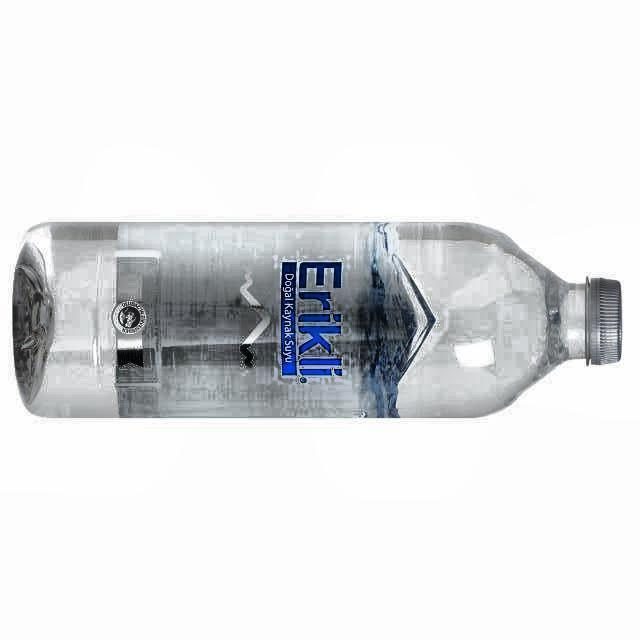plastic: (14, 222, 622, 417)
